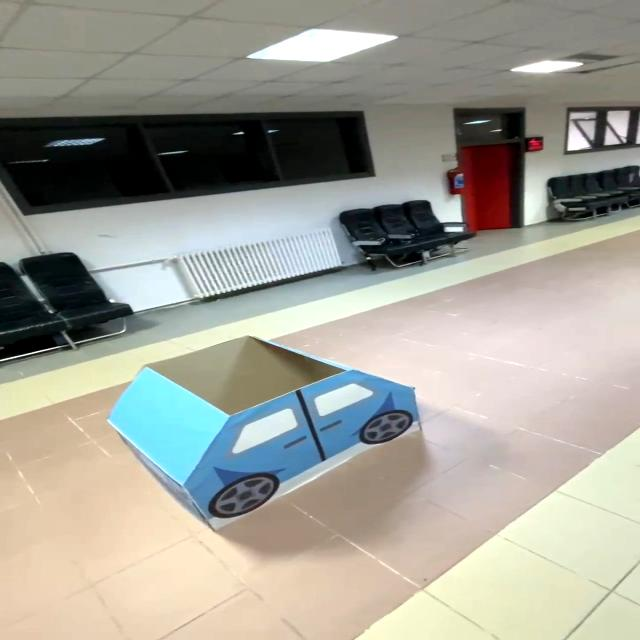blue_car: (61, 326, 448, 534)
